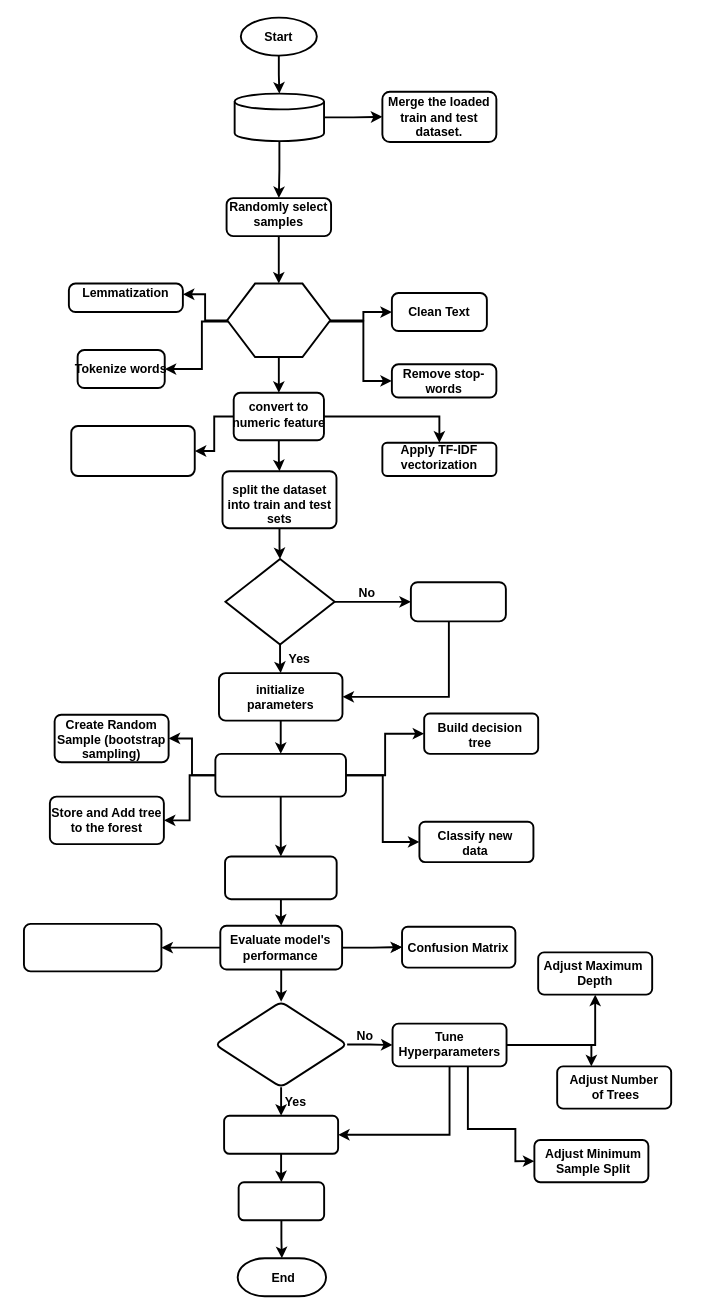
The diagram is 706 pixels wide and 1313 high, and some of its shapes have lost their labels. Here are the shapes that lost their labels. From the top down, the box of each, then its label:
(233, 92, 325, 142): Load dataset
(226, 282, 331, 357): Pre-process the data
(70, 425, 195, 476): use if statement to convert the rating (label) to binary
(224, 558, 335, 645): is the class balanced?
(409, 581, 506, 622): Apply sampling
(214, 752, 346, 797): Train model on the train data
(224, 855, 337, 900): Predict with the test data
(23, 922, 162, 972): Accuracy, precision, F1_score and recall
(214, 1000, 348, 1088): is the performance satisfactory?
(223, 1114, 339, 1154): Save Model
(237, 1181, 325, 1221): Deploy the Model
